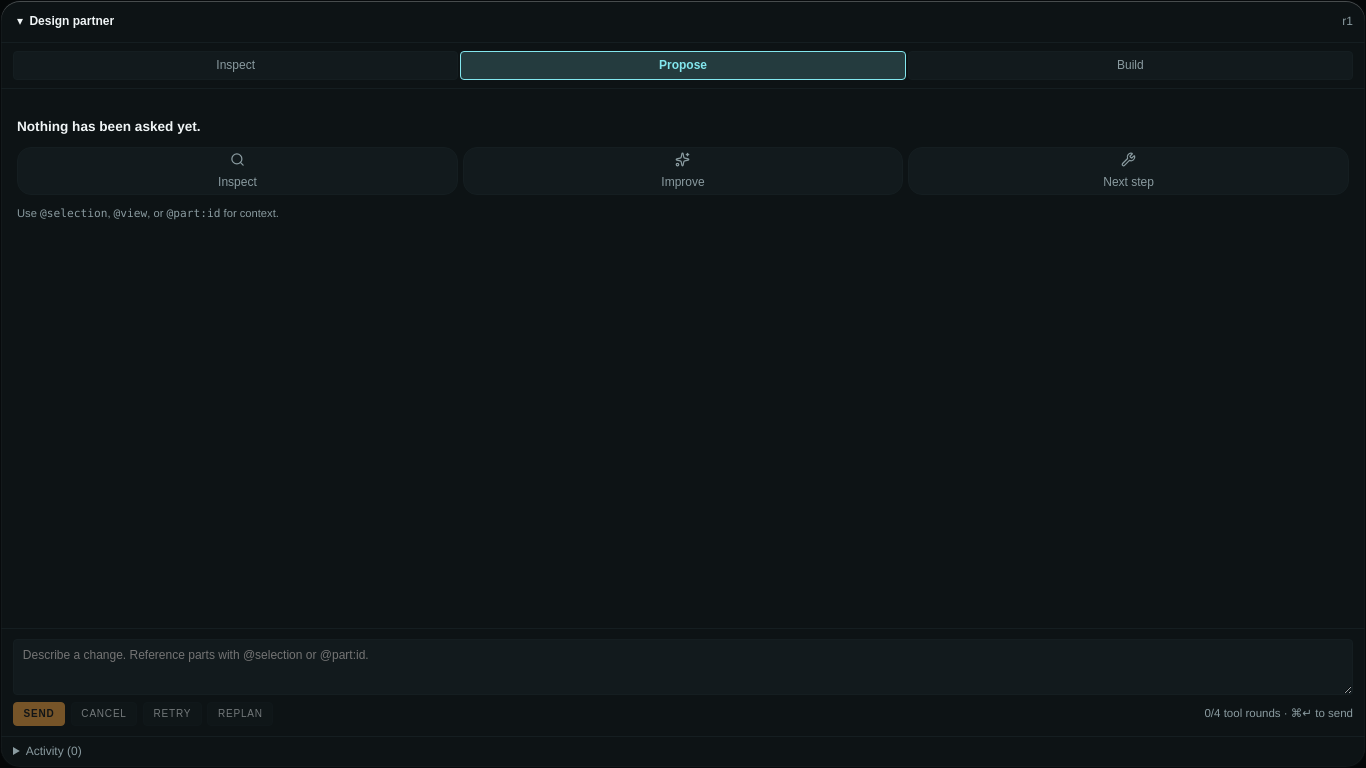
AgentWorkbench › shows a failure as an alert with the reason and a way forward
The image size is (1366, 768).
Replace the text in the text box named "Ask the design partner" with "Anything at all" at (683, 666), box [13,638,1353,694]
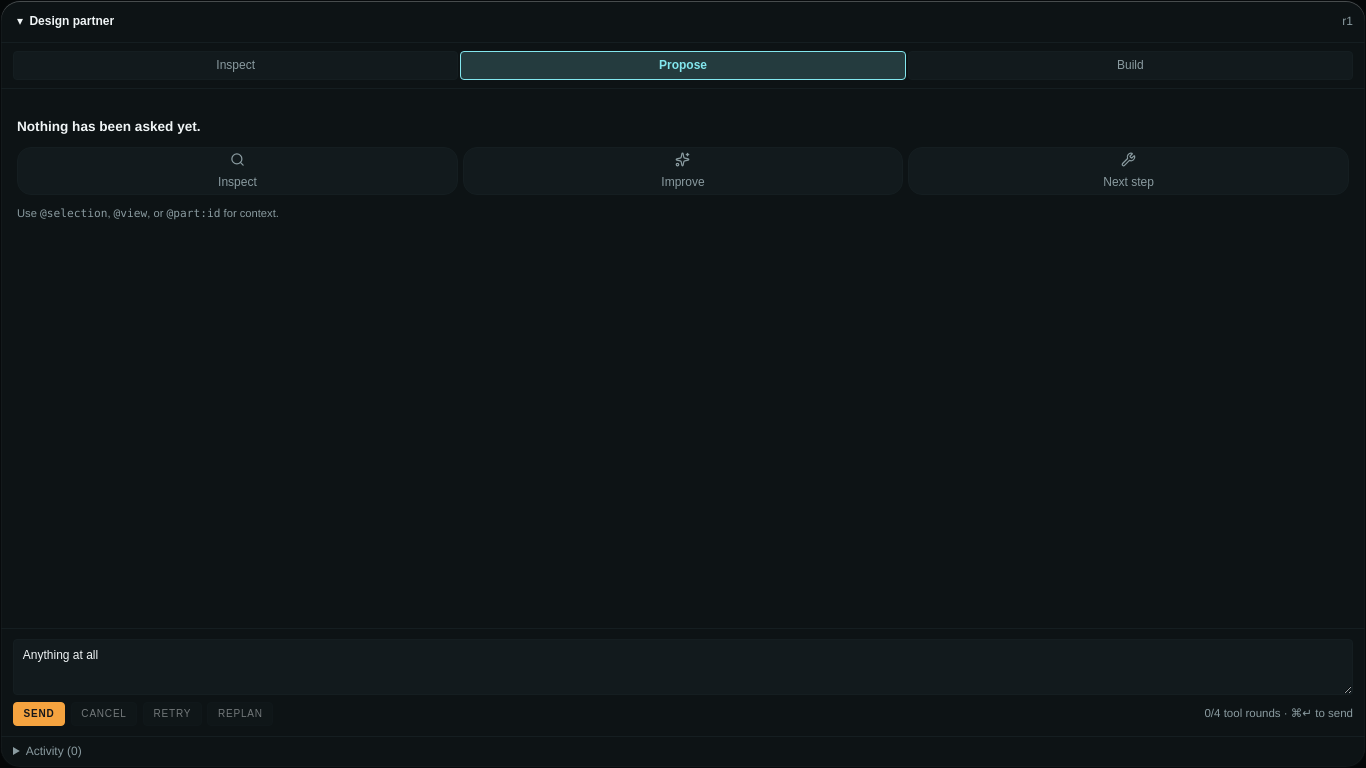
Click the button "Send" at (39, 714), box [13,702,65,726]
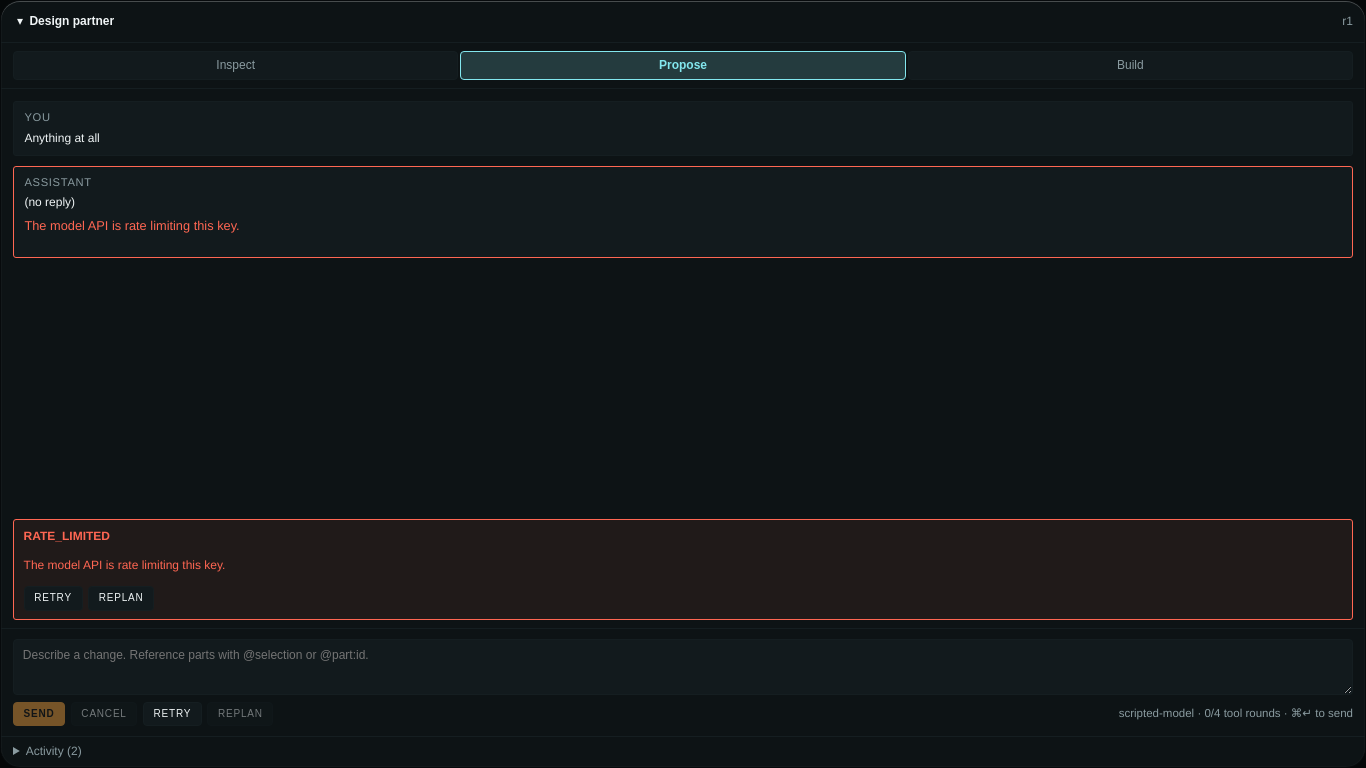
Expected: the text "RATE_LIMITED" is shown, [24,529,110,543]
Expected: the text "The model API is rate limiting this key." below "RATE_LIMITED" is shown, [24,558,226,572]
Expected: the button "Retry" below "RATE_LIMITED" is enabled, [24,586,82,611]
